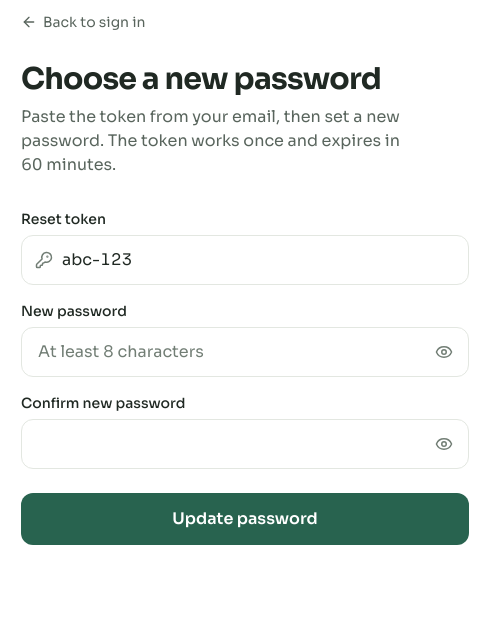
Scenario: ResetPassword › enforces the server minimum length before making a request
Note: The backend's ResetPasswordRequest requires 8 characters.
Type "short" into the password field labelled "New password".
click(245, 352); type("short")  # box left=21, top=327, right=469, bottom=377
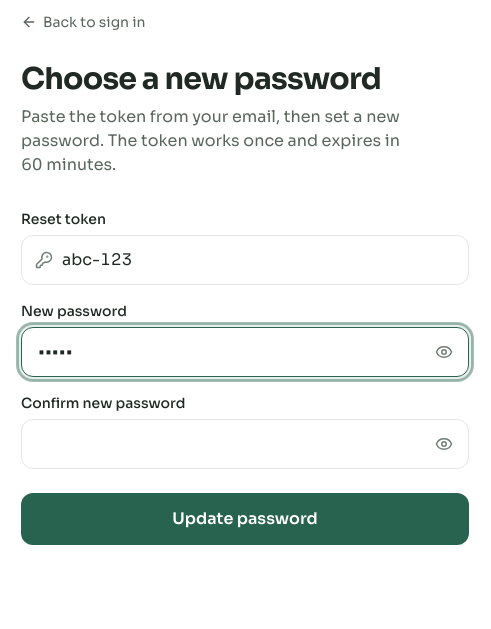
Type "short" into the password field labelled "Confirm new password".
click(245, 444); type("short")  # box left=21, top=419, right=469, bottom=469
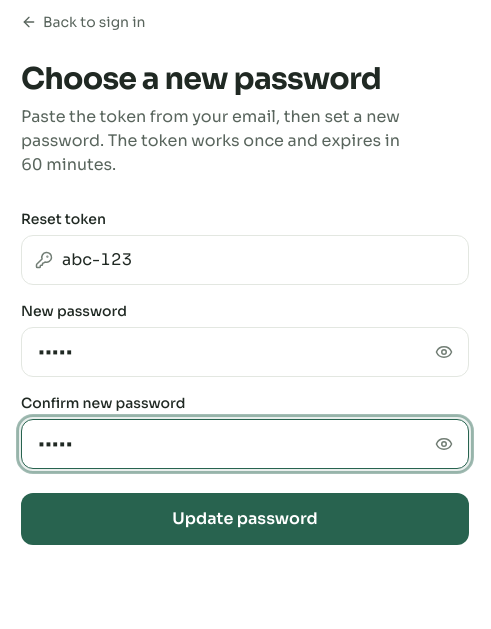
Click the button "Update password".
click(245, 519)  # box left=21, top=493, right=469, bottom=545
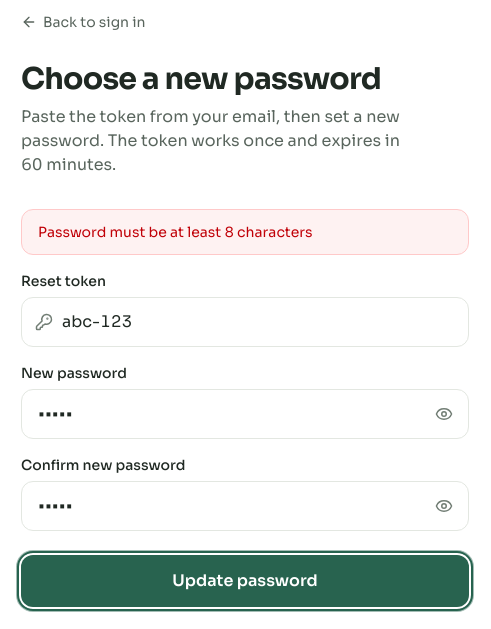
Check: the message shows "at least 8 characters", box left=38, top=223, right=313, bottom=241
